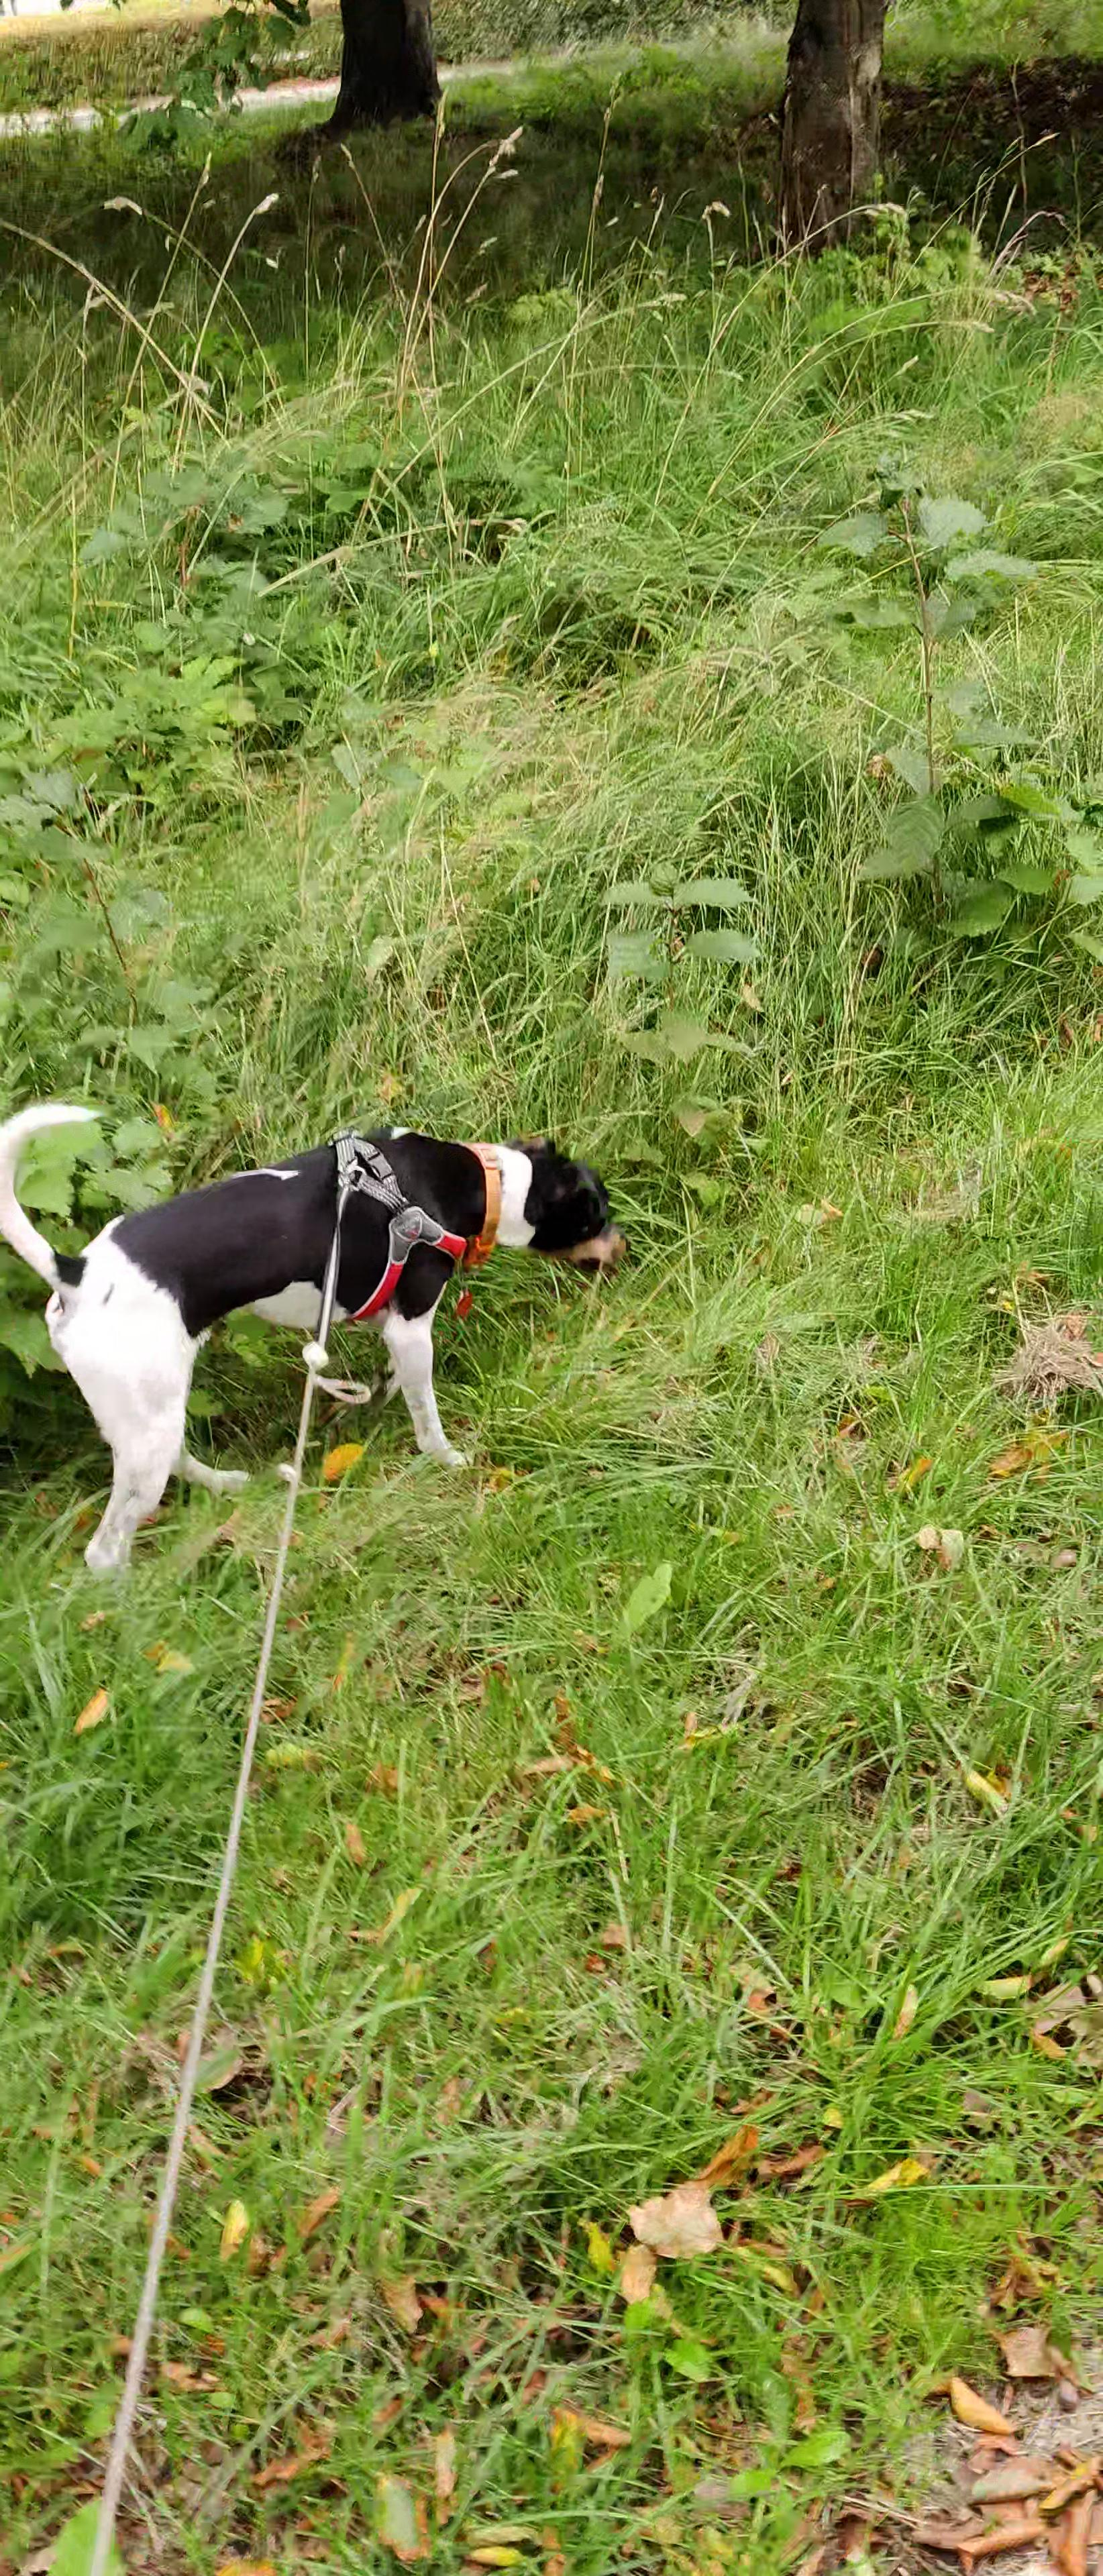Dog: (0, 1069, 648, 1587)
